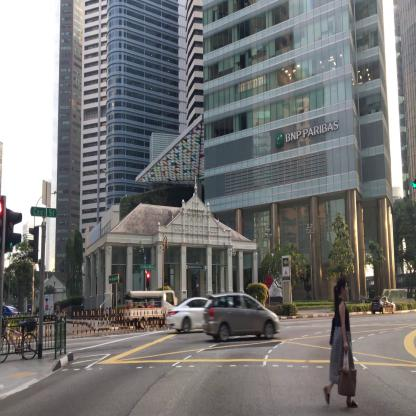red_traffic_light: (146, 272, 150, 287)
